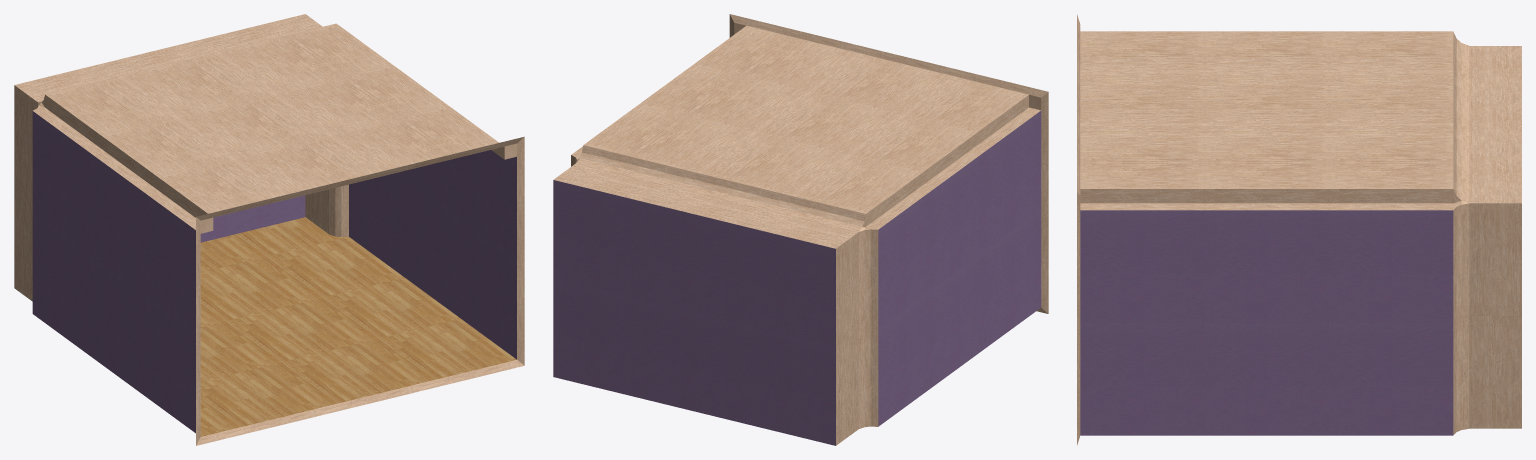
The model's file is bedroom_1.FBX.
3 renders of one model, left to right at view 1: azimuth 30°, elevation 25°; view 2: azimuth 150°, elevation 25°; view 3: azimuth 270°, elevation 25°, orthographic. The views are drawn at different scales.
Parts seen in each view (by area): view 1: Plane001; view 2: Plane001; view 3: Plane001.
Part boxes in pixels (left/top/right/bottom): Plane001: left=14, top=14, right=524, bottom=445; Plane001: left=553, top=14, right=1048, bottom=445; Plane001: left=1077, top=14, right=1521, bottom=445.
Bounding box in the file's own units: 339 × 226 × 358.
